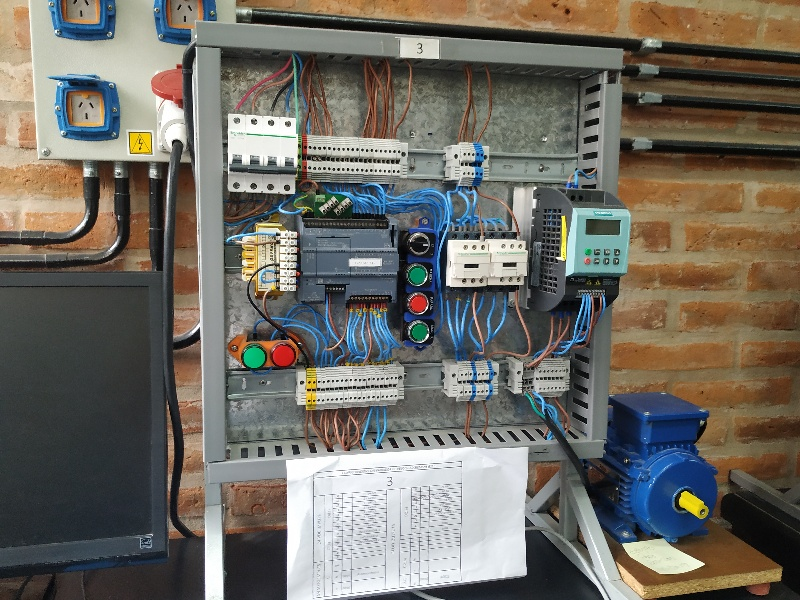Tablero 3: (215, 39, 631, 454)
